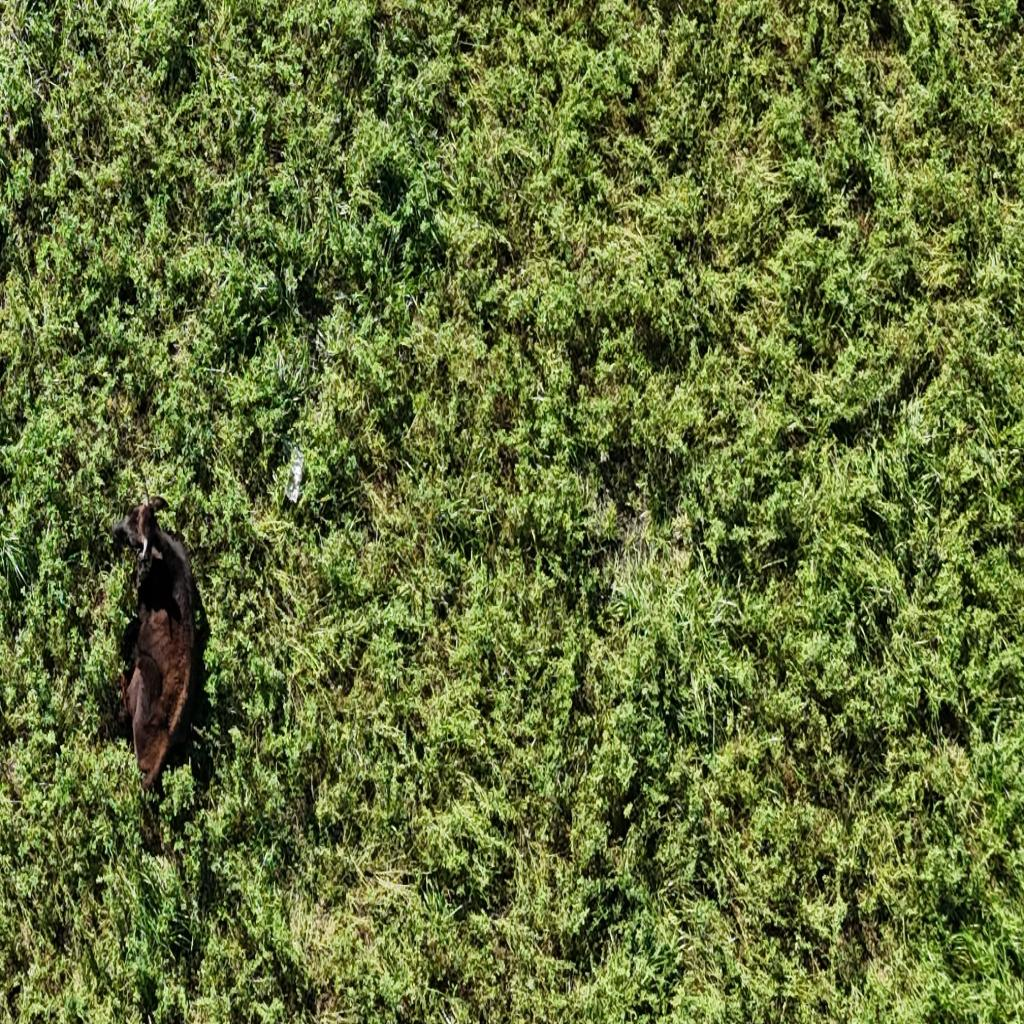cow: (91, 456, 287, 885)
